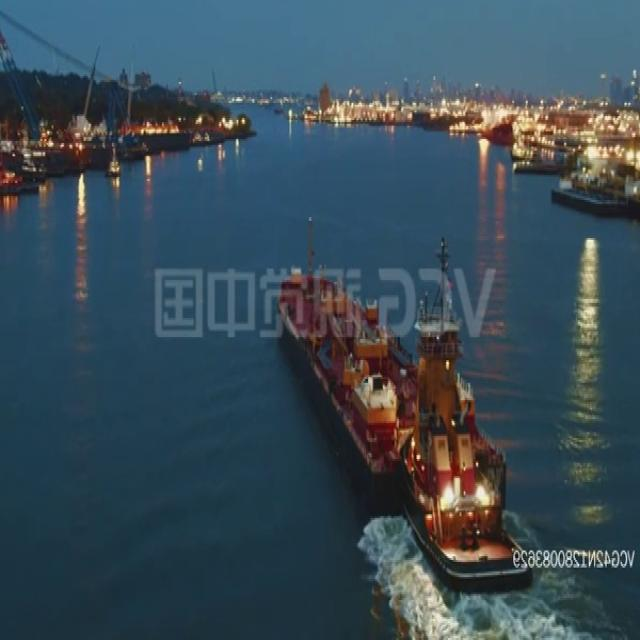cargoship: (278, 271, 528, 587)
